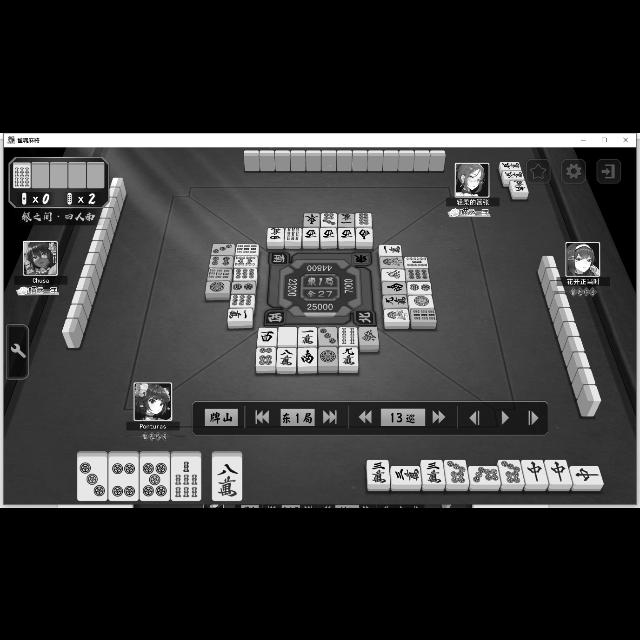1m: (298, 326, 318, 344), (228, 308, 252, 320), (380, 244, 402, 256), (338, 212, 356, 226)
1p: (318, 346, 338, 366), (409, 294, 435, 308), (205, 281, 229, 293)
1s: (384, 308, 410, 322), (381, 255, 404, 267)
2p: (406, 280, 432, 294), (232, 280, 255, 294)
3m: (421, 460, 447, 484), (391, 466, 422, 484), (366, 460, 389, 484)
3p: (77, 456, 106, 500), (319, 327, 337, 345), (211, 242, 235, 254)
4m: (268, 227, 284, 241)
4p: (109, 456, 139, 500), (210, 255, 232, 268)
4s: (339, 326, 357, 346)
5m: (499, 160, 523, 170), (509, 180, 528, 190), (503, 171, 525, 179)
5p: (141, 456, 169, 500)
5s: (404, 256, 428, 268)
6p: (256, 346, 274, 366)
6s: (14, 165, 32, 188)
7p: (498, 460, 526, 484), (467, 465, 501, 483), (445, 460, 469, 484), (321, 212, 337, 226)
7s: (171, 456, 201, 499)
8m: (213, 457, 243, 501), (276, 348, 296, 367)
8p: (356, 212, 372, 226)
8s: (234, 255, 256, 267)
9m: (338, 346, 358, 366), (382, 296, 408, 308)
9p: (230, 294, 256, 308), (405, 268, 429, 280), (233, 267, 257, 279)
9s: (412, 309, 436, 321), (207, 268, 231, 280), (235, 243, 257, 255), (286, 226, 300, 242)
chun: (522, 458, 550, 484), (546, 459, 572, 483), (571, 465, 603, 483)
haku: (278, 326, 298, 346)
hatsu: (358, 326, 378, 344), (381, 268, 405, 280)
nan: (298, 346, 316, 366), (382, 282, 406, 294), (356, 228, 374, 240)
sha: (258, 326, 278, 346), (320, 228, 338, 240), (338, 228, 356, 240), (303, 228, 319, 240)
tou: (304, 212, 320, 226)
